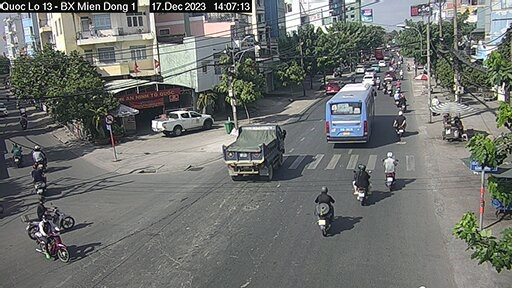bus: (326, 85, 379, 148)
car: (146, 108, 217, 137), (362, 74, 377, 88), (324, 82, 340, 95)
motorbike: (25, 201, 75, 236), (34, 221, 69, 265), (311, 185, 339, 238), (348, 165, 376, 210), (377, 147, 400, 193), (29, 165, 53, 196), (390, 113, 411, 139), (9, 143, 23, 168)
truck: (221, 126, 291, 184)
